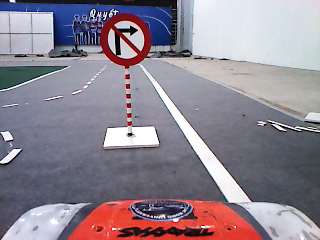ban: (99, 12, 152, 68)
